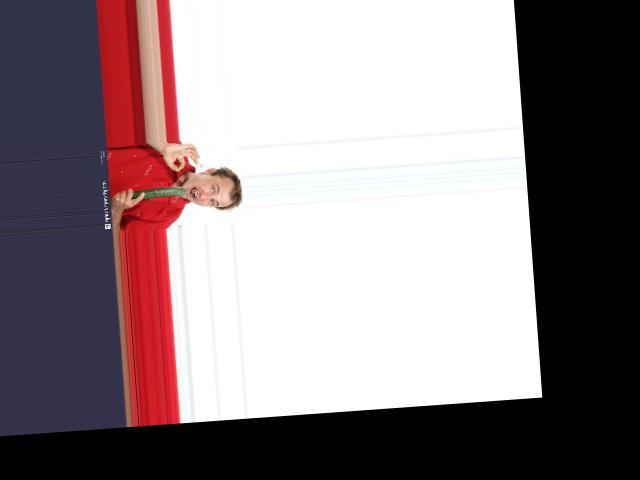cucumber: (131, 186, 186, 198)
